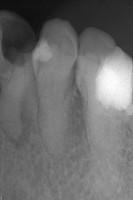Furcation Involvement: (1, 96, 34, 148)
